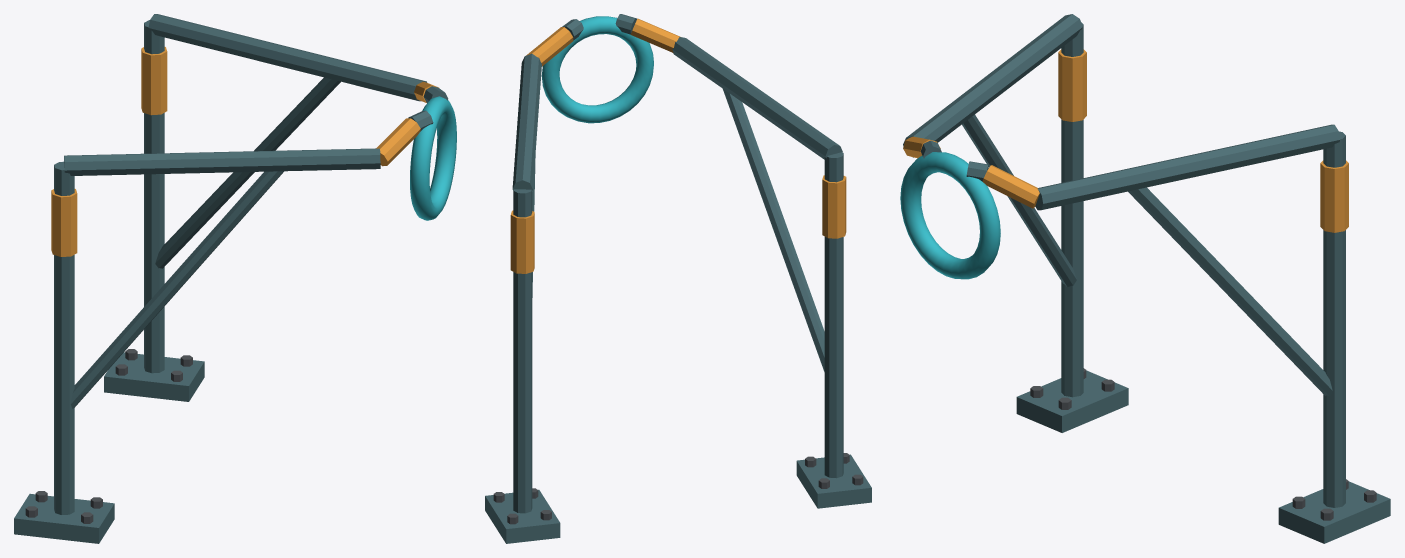
Rendered from w7a-tank-rim-hook.glb.
The picture shows the model from 3 angles, left to right: view 1: azimuth 30°, elevation 25°; view 2: azimuth 150°, elevation 25°; view 3: azimuth 270°, elevation 25°; orthographic projection. The views are drawn at different scales.
Parts seen in each view (by area): view 1: W7a roof rim grapple saddle; view 2: W7a roof rim grapple saddle; view 3: W7a roof rim grapple saddle.
Part boxes in pixels (x1,y1,x2,y2): W7a roof rim grapple saddle: [14, 14, 456, 543]; W7a roof rim grapple saddle: [485, 14, 871, 543]; W7a roof rim grapple saddle: [900, 14, 1390, 543].
Bounding box in the file's own units: 4.18 × 3.93 × 4.18.
